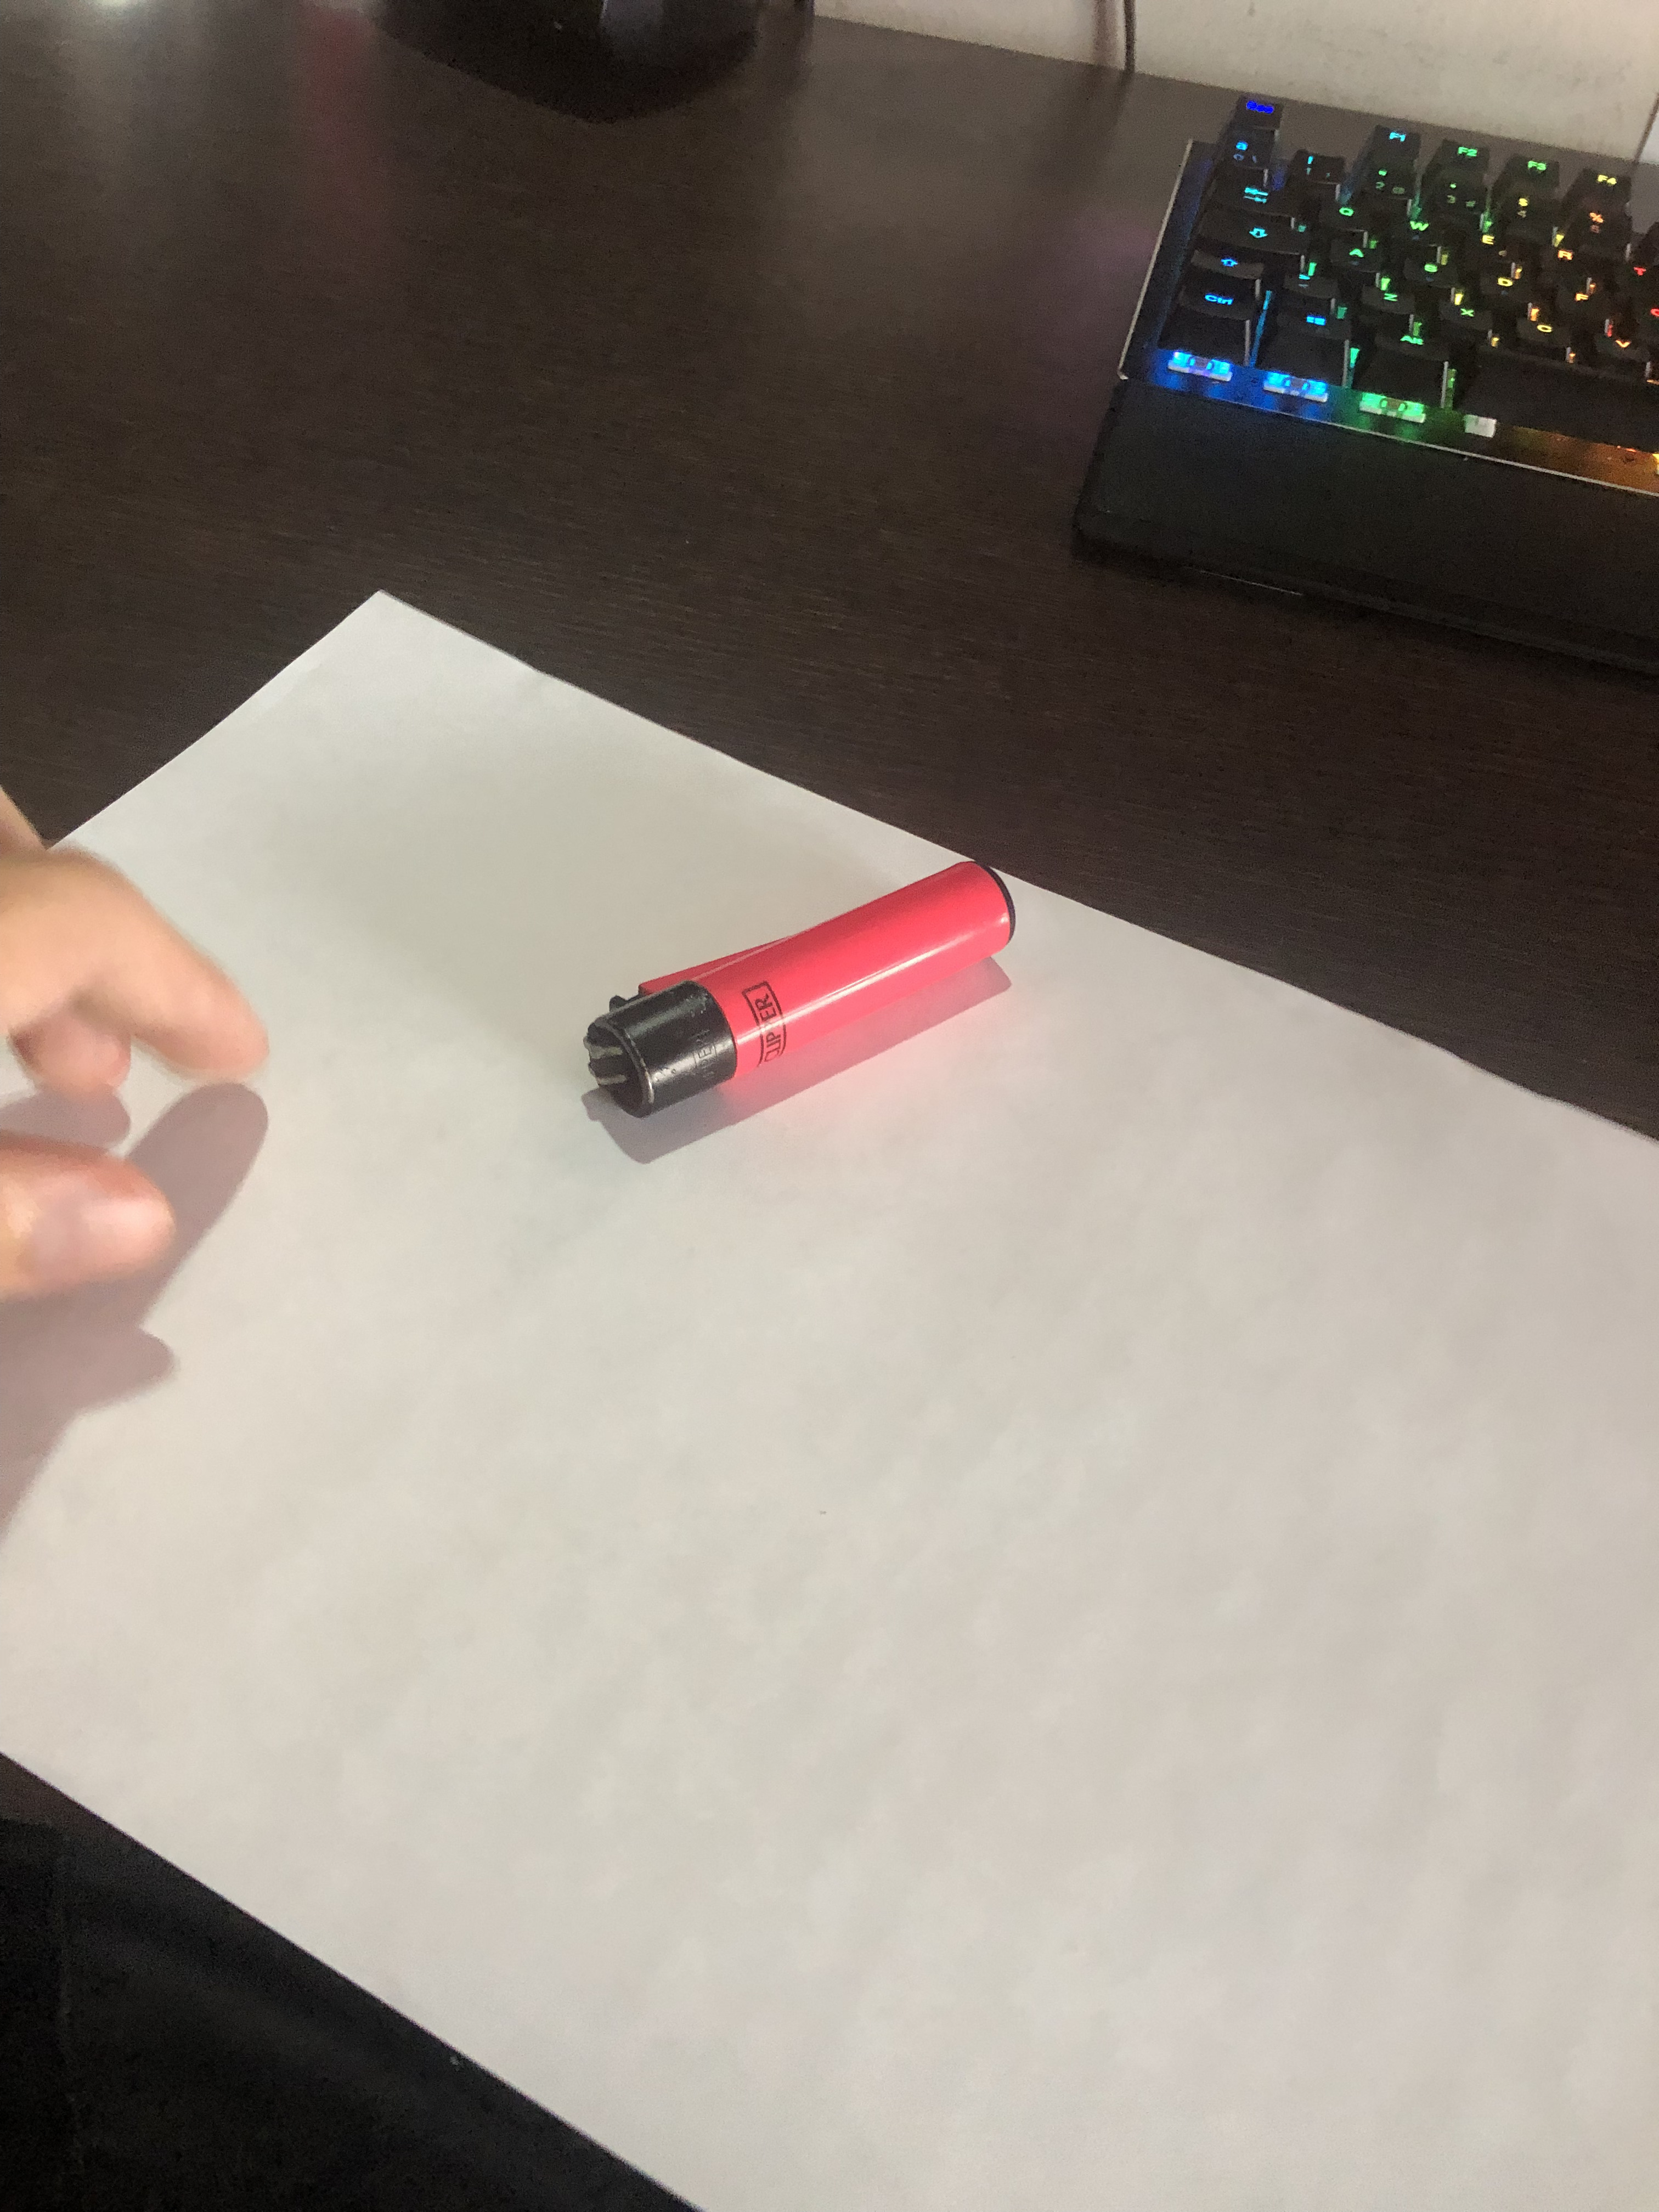Mechero: (561, 860, 1070, 1148)
